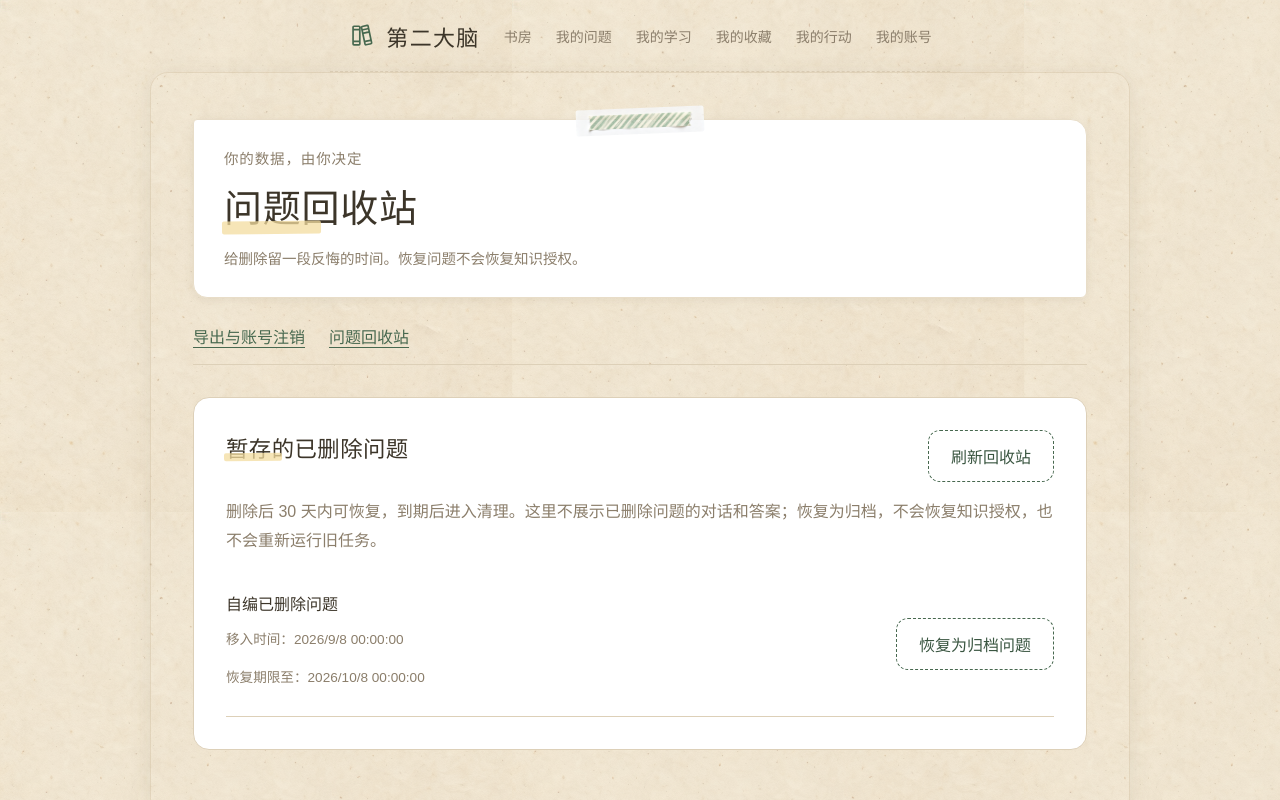
超过回收期限明确不可恢复，不提示刷新重试
Check: the heading "问题回收站" is shown, box x1=224 y1=188 x2=418 y2=230
Step 1. Click the button "恢复为归档问题" → (975, 644), box x1=896 y1=618 x2=1054 y2=670
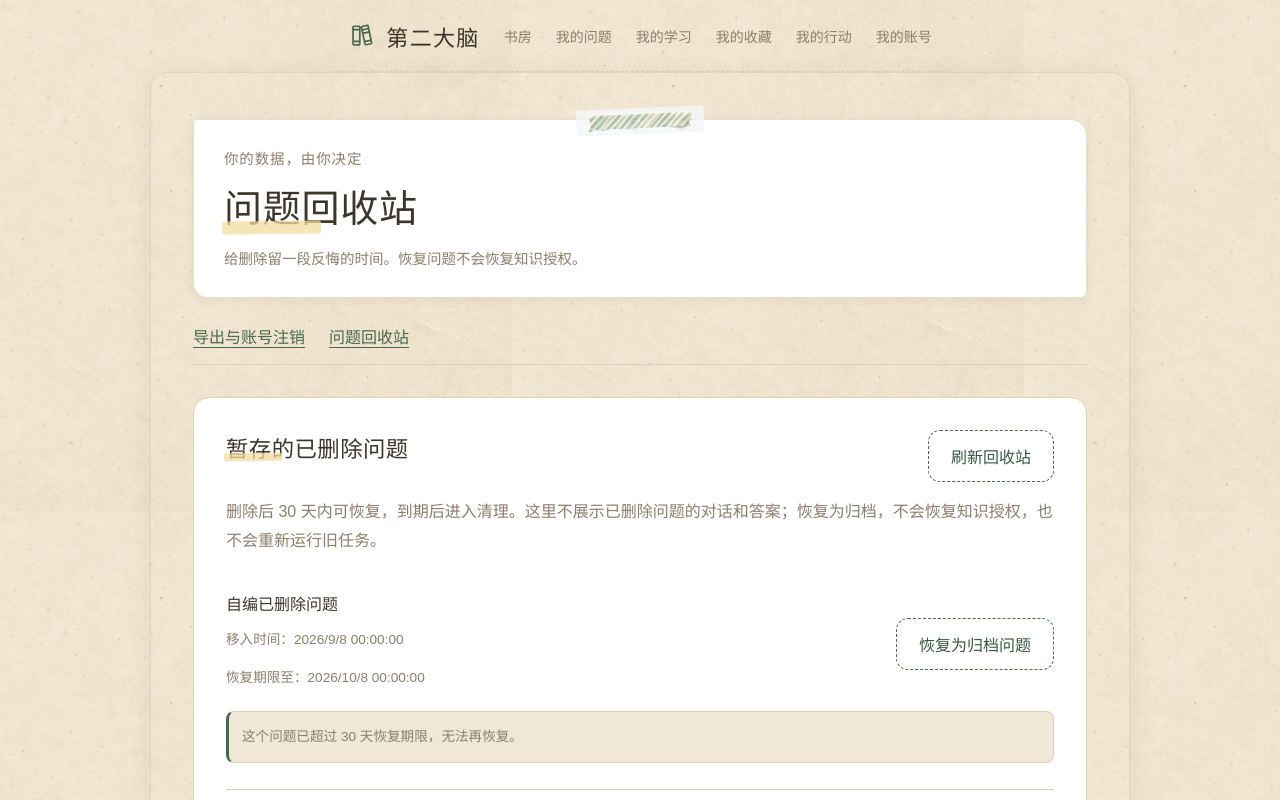
Check: the message reads "这个问题已超过 30 天恢复期限，无法再恢复。", box x1=242 y1=729 x2=523 y2=744
